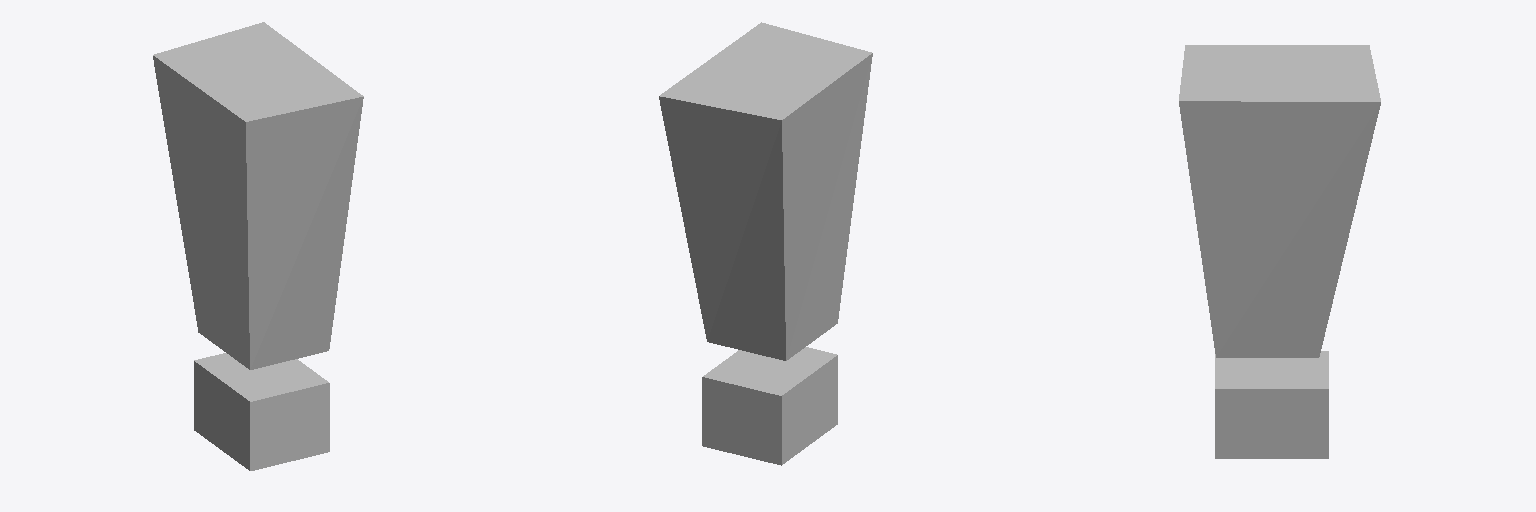
Rendered from letter1.obj.
The picture shows the model from 3 angles: view 1: azimuth 30°, elevation 25°; view 2: azimuth 150°, elevation 25°; view 3: azimuth 270°, elevation 25°; orthographic projection.
Parts seen in each view (by area): view 1: pCube2, pCube1; view 2: pCube2, pCube1; view 3: pCube2, pCube1.
Part boxes in pixels (bbox=[...]): pCube2: bbox=[153, 22, 363, 369]; pCube1: bbox=[194, 353, 329, 470]; pCube2: bbox=[659, 22, 872, 360]; pCube1: bbox=[702, 347, 837, 465]; pCube2: bbox=[1179, 45, 1380, 357]; pCube1: bbox=[1215, 351, 1328, 458].
Size of the model in its own units: 0.6669 by 1.98 by 0.9974.